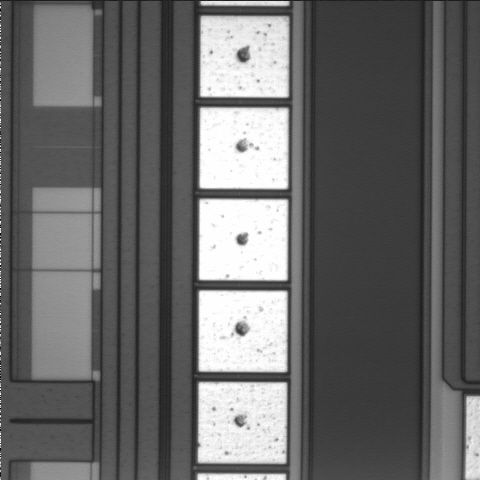pad: (199, 199, 288, 281), (198, 382, 287, 464), (199, 290, 287, 372), (200, 16, 289, 97), (199, 108, 288, 189)
